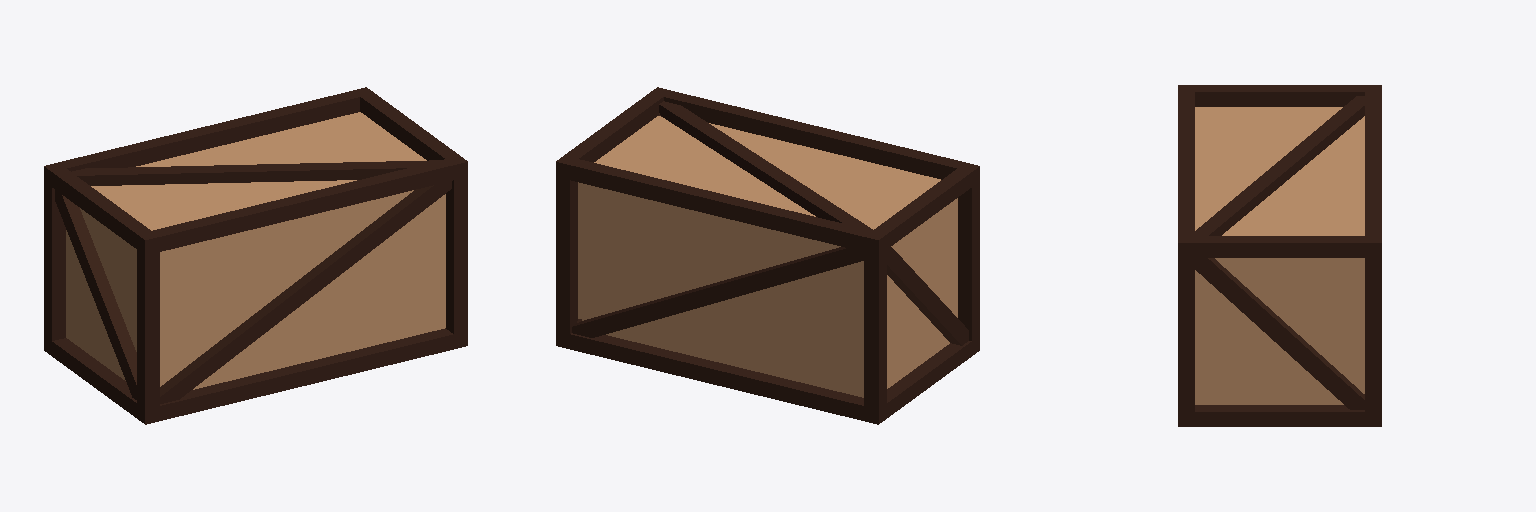
File: Chest_B.obj
The picture shows the model from 3 angles: view 1: azimuth 30°, elevation 25°; view 2: azimuth 150°, elevation 25°; view 3: azimuth 270°, elevation 25°; orthographic projection.
Visible parts, largest first — view 1: Chest_B; view 2: Chest_B; view 3: Chest_B.
Boxes of the visible parts, x1=… form: Chest_B: x1=44, y1=87, x2=467, y2=424; Chest_B: x1=556, y1=87, x2=979, y2=424; Chest_B: x1=1178, y1=85, x2=1381, y2=426.
Size of the model in its own units: 6.6 by 3.6 by 3.6.